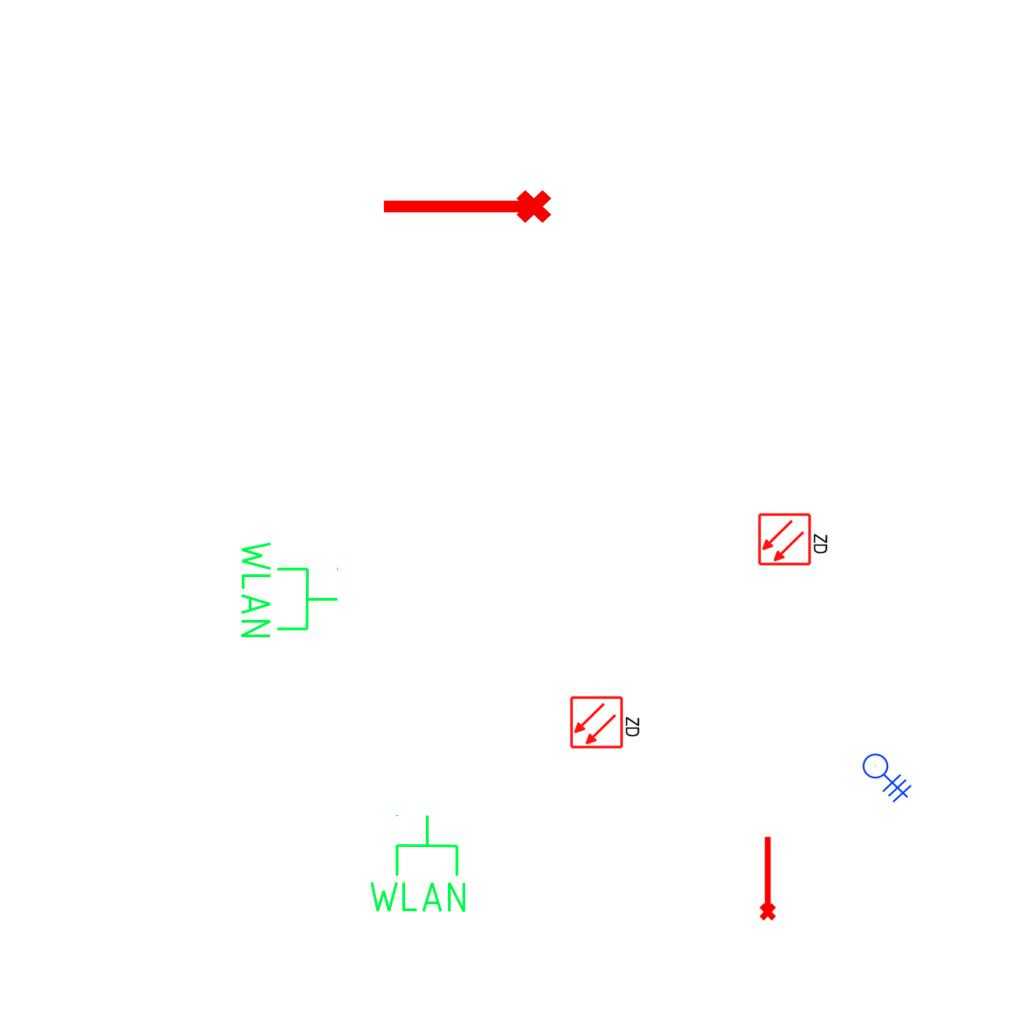ASR_Ansaugoeffnung: (378, 186, 554, 232), (755, 834, 778, 922)
Elektroanschluss_allgemein_400V_Geraeteanschlussdose_400V: (862, 745, 918, 803)
WLAN: (365, 812, 470, 916), (237, 537, 341, 642)
ZD_Melder_in_Zwischendecke_mit_Revisionsoeffnung_mind_40_x_40_cm: (757, 510, 831, 567), (569, 693, 643, 750)
